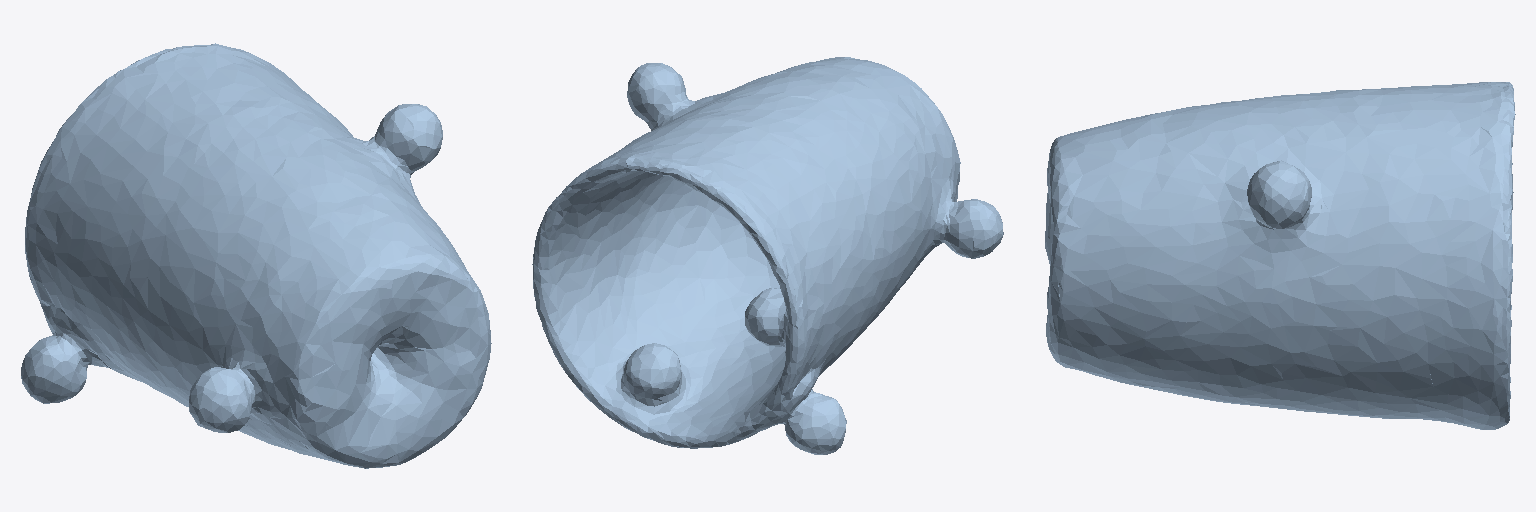
The robot description file, URDF, robot "CupBlue.urdf":
<?xml version="1.0" ?>
<robot name="CupBlue.urdf">
  <dynamics damping="0.5" friction="0.9"/>
  <link name="baseLink">
    <contact>
      <lateral_friction value="0.9"/>
      <rolling_friction value="0.5"/>
      <stiffness value="30000"/>
      <damping value="1000"/>
    </contact>
    <visual>
      <origin rpy="0 0 0" xyz="0 0 0"/>
      <geometry>
        <mesh filename="objects/CupBlue/CupBlue.obj" scale="1.0 1.0 1.0"/>
      </geometry>
      <material name="mat">
        <color rgba="0.7 0.8 0.9 1"/>
      </material>
    </visual>
    <collision>
      <origin rpy="0 0 0" xyz="0 0 0"/>
      <geometry>
        <mesh filename="objects/CupBlue/CupBlue.obj" scale="1.0 1.0 1.0"/>
      </geometry>
    </collision>
  </link>
</robot>

--- What the picture shows (computed from the rendered views, not written in the file) ---
The picture shows the robot from 3 angles, left to right: view 1: azimuth 30°, elevation 25°; view 2: azimuth 150°, elevation 25°; view 3: azimuth 270°, elevation 25°; orthographic projection.
Robot: CupBlue.urdf — 1 links, 0 joints (none); root link baseLink; default pose: all joints at 0.
Visible links, largest first — view 1: baseLink; view 2: baseLink; view 3: baseLink.
Link boxes in pixels (x1=…): baseLink: x1=21, y1=43, x2=491, y2=468; baseLink: x1=532, y1=57, x2=1003, y2=454; baseLink: x1=1045, y1=82, x2=1515, y2=429.
Size in the robot's own frame: 0.0822 by 0.1026 by 0.0758 metres.
Meshes: 1 distinct files referenced, 1 mesh visuals loaded (1 OBJ).
